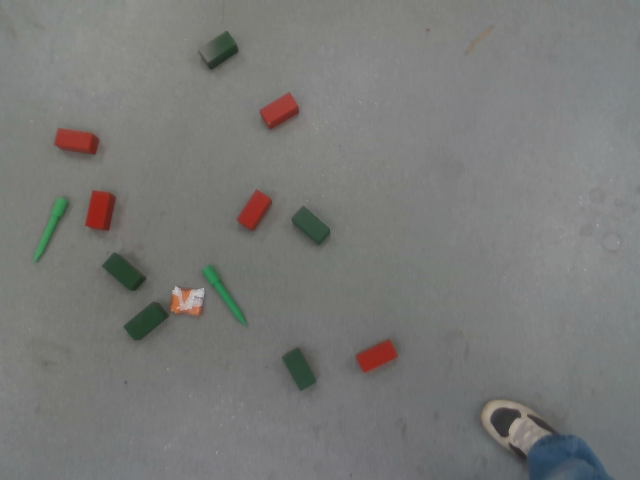Probe: (199, 260, 250, 329), (29, 195, 71, 263)
